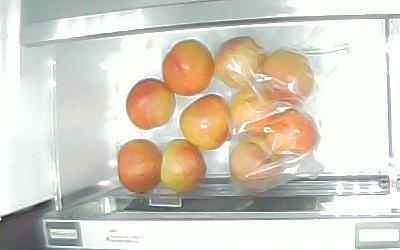prune: (163, 38, 214, 96), (180, 94, 231, 151), (126, 78, 175, 131), (160, 139, 207, 194), (119, 139, 162, 194)
prune_vinyl: (229, 132, 285, 192), (256, 49, 315, 104), (265, 109, 319, 161), (214, 37, 265, 89), (231, 91, 276, 132)
